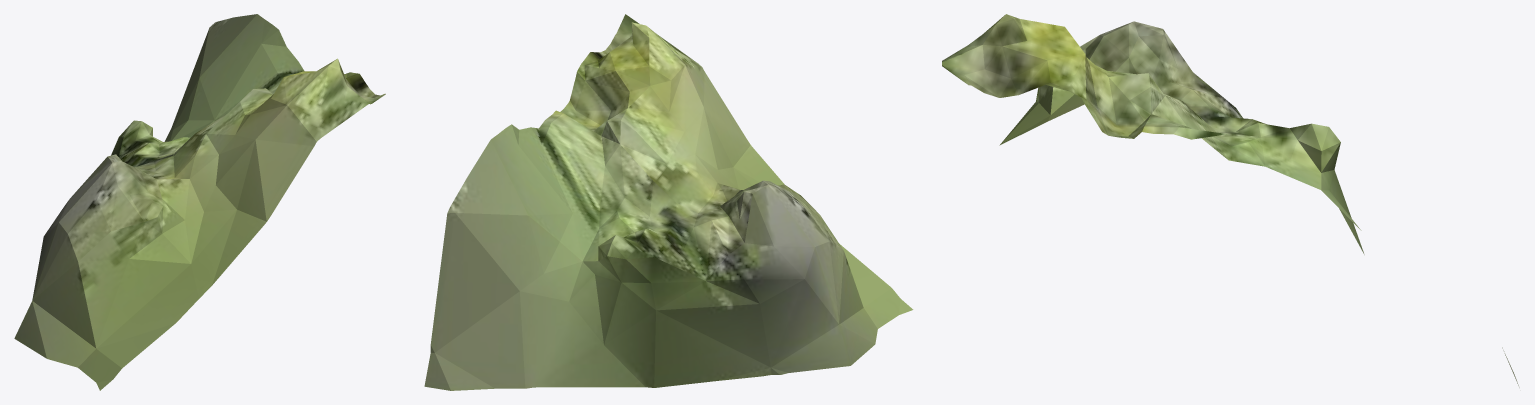
The picture shows the model from 3 angles, left to right: view 1: azimuth 30°, elevation 25°; view 2: azimuth 150°, elevation 25°; view 3: azimuth 270°, elevation 25°; orthographic projection. The views are drawn at different scales.
Bounding box in the file's own units: 13.85 × 10.78 × 16.15.
1 material, 1 textured.
